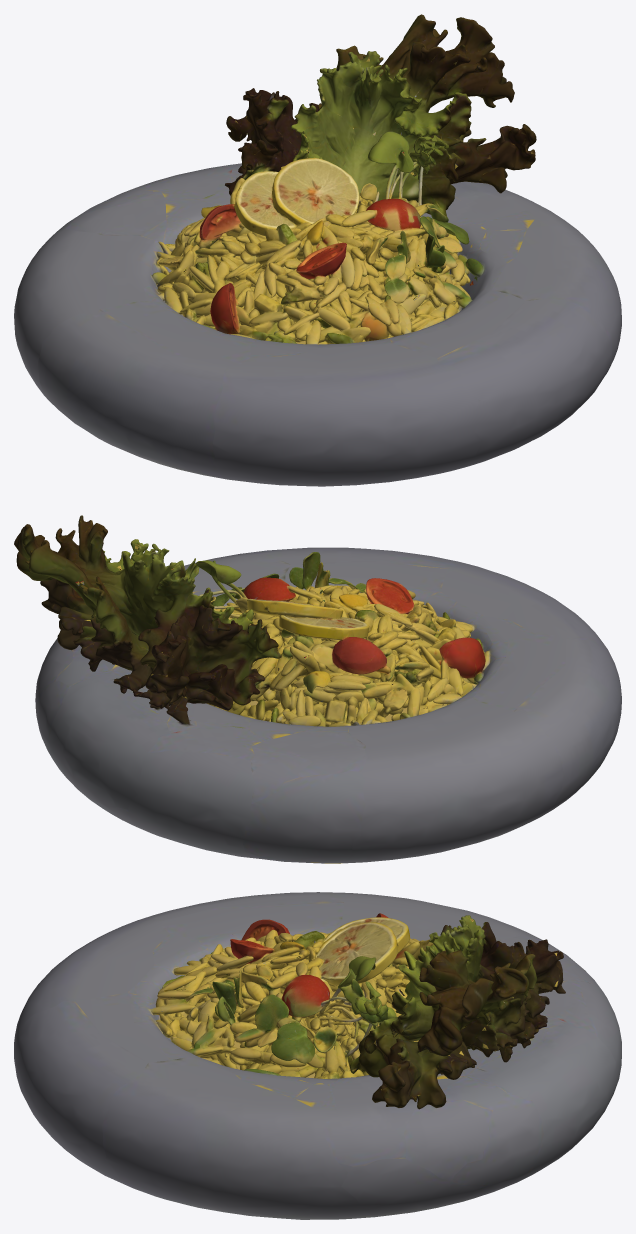
File: Meshy_AI_Garden_Orzo_Delight_0813065557_texture-v1.glb
3 views of the same model, one above another, from view 1: azimuth 30°, elevation 25°; view 2: azimuth 150°, elevation 25°; view 3: azimuth 270°, elevation 25° (orthographic). The views are drawn at different scales.
Visible parts, largest first — view 1: mesh_node; view 2: mesh_node; view 3: mesh_node.
Part boxes in pixels (x1=…): mesh_node: x1=14, y1=14, x2=621, y2=486; mesh_node: x1=14, y1=515, x2=621, y2=863; mesh_node: x1=14, y1=892, x2=621, y2=1219.
Bounding box in the file's own units: 1.9 × 0.9005 × 1.9.
Materials: 1 (1 with a texture image).
